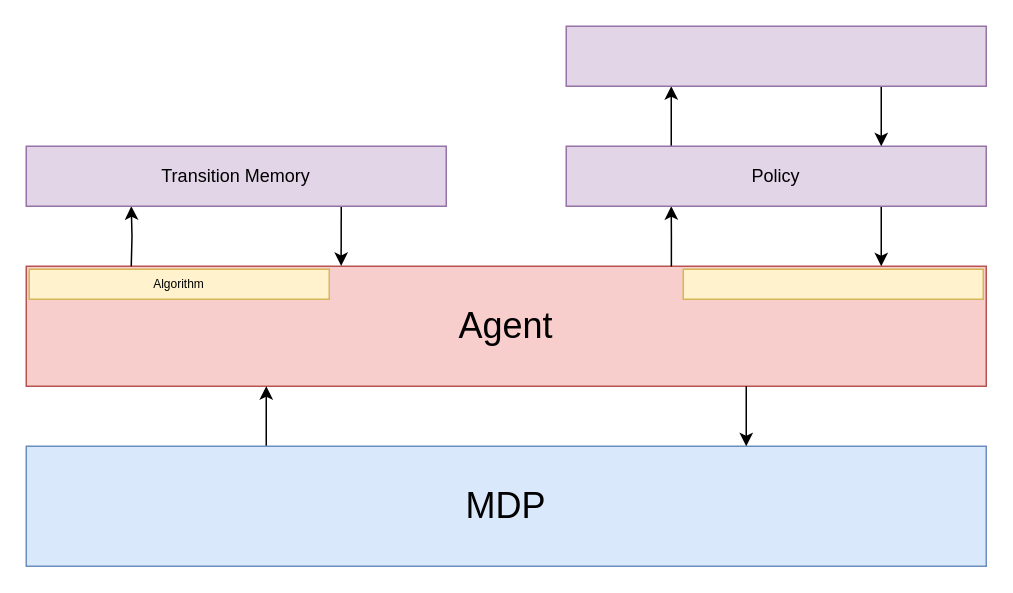
Image size: 1013x593. Some labels were removed from this diagram. Each missing label, with the centre of its shape:
(Action-)Value Function: the point at 775,55
Exploitation/Exploration Strategy: the point at 832,283
